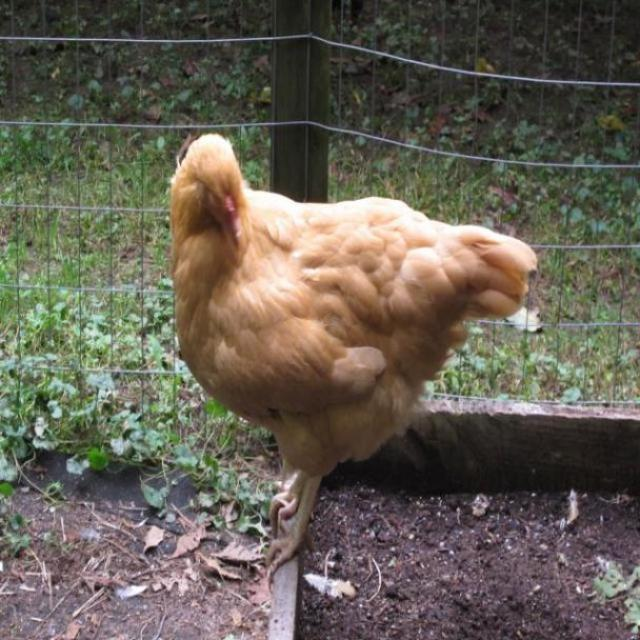Chicken: (169, 134, 535, 566)
